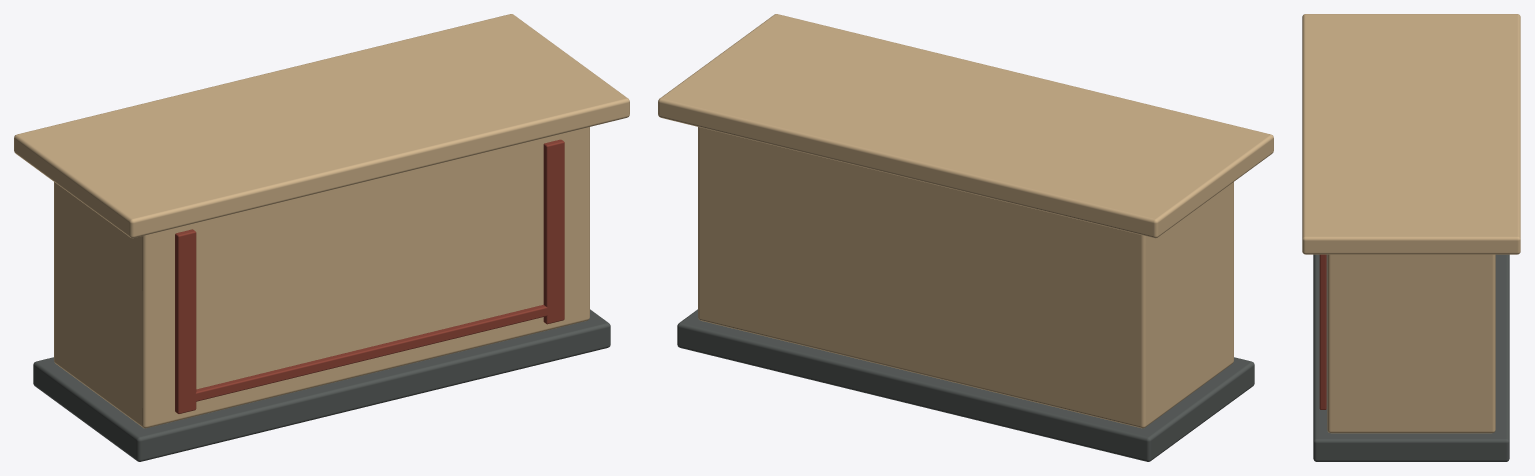
The model's file is bookbinding-and-paper-mill-order-counter-d72db5ed__30592.glb.
The picture shows the model from 3 angles, left to right: view 1: azimuth 30°, elevation 25°; view 2: azimuth 150°, elevation 25°; view 3: azimuth 270°, elevation 25°; orthographic projection. The views are drawn at different scales.
Visible parts, largest first — view 1: order-counter; view 2: order-counter; view 3: order-counter.
Part boxes in pixels (x1,y1,x2,y2): order-counter: (14,14,629,461); order-counter: (658,14,1273,461); order-counter: (1302,14,1520,461).
Size of the model in its own units: 1.9 by 0.91 by 0.7801.
